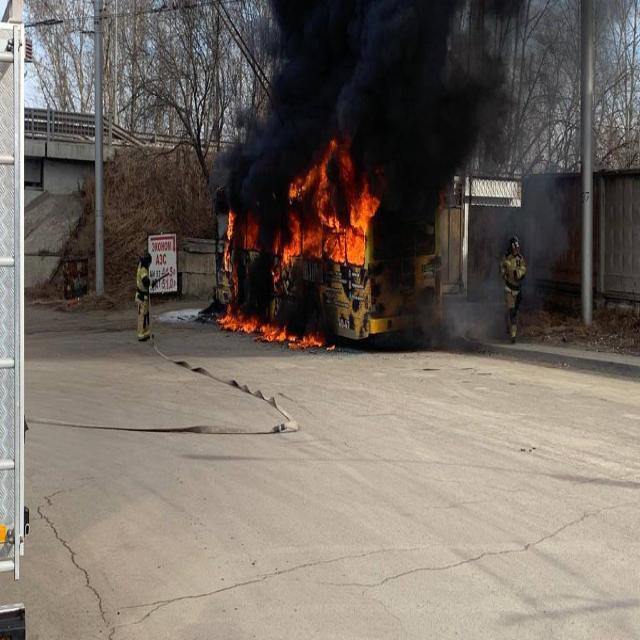Fire: (275, 142, 378, 272), (217, 304, 322, 349), (223, 203, 257, 271)
Smoke: (216, 0, 562, 350)
